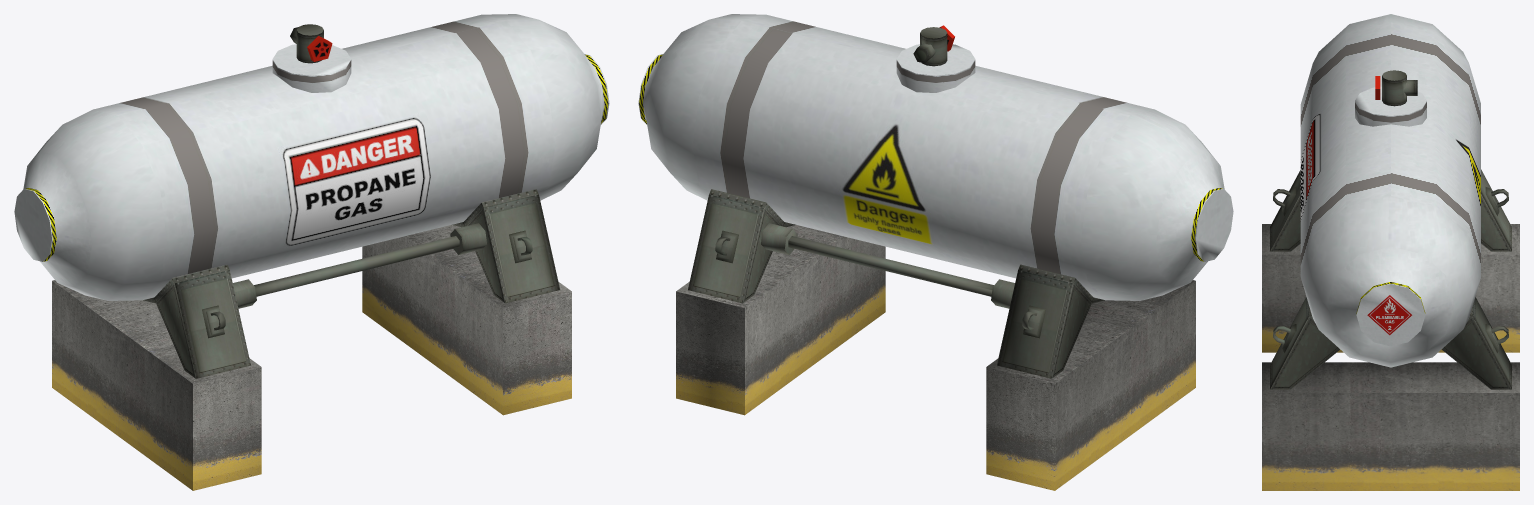
File: lpg storage tank 01.obj
3 renders of one model, left to right at view 1: azimuth 30°, elevation 25°; view 2: azimuth 150°, elevation 25°; view 3: azimuth 270°, elevation 25°, orthographic. The views are drawn at different scales.
Visible parts, largest first — view 1: Lpg Tank; view 2: Lpg Tank; view 3: Lpg Tank.
Part boxes in pixels (box(x1,y1,x2,y2)): Lpg Tank: box(14, 14, 609, 490); Lpg Tank: box(638, 14, 1233, 490); Lpg Tank: box(1262, 14, 1519, 490).
Bounding box in the file's own units: 4.26 × 2.64 × 1.87.
Materials: 1 (1 with a texture image).
